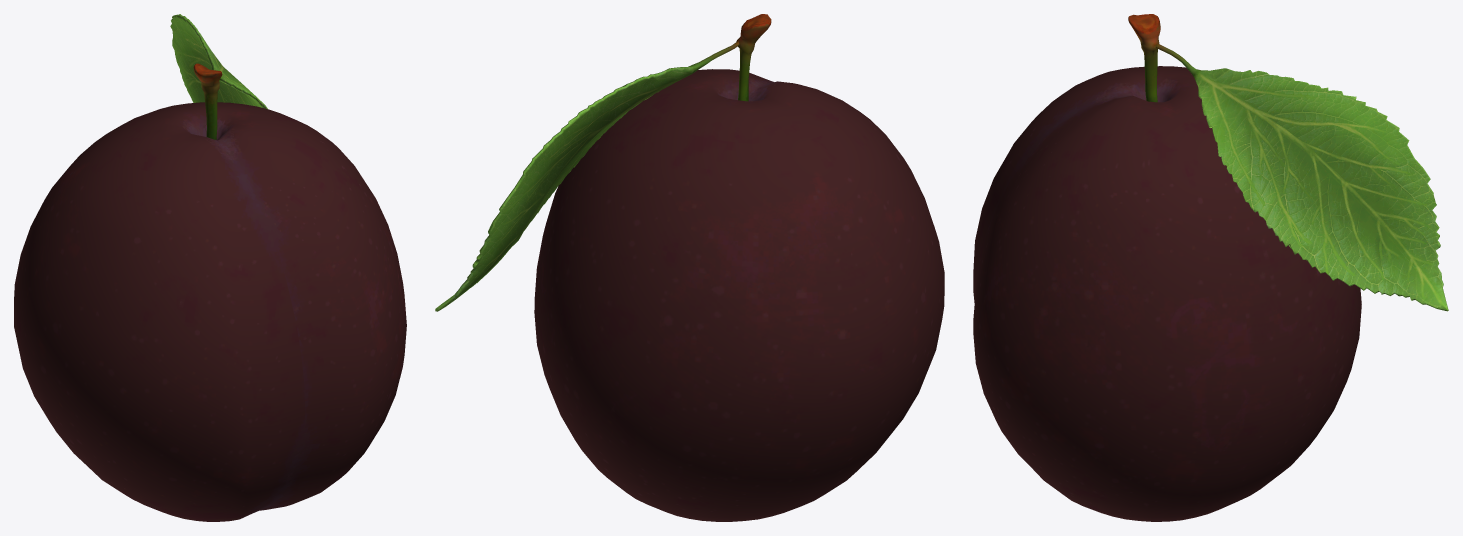
Rendered from Plum.fbx.
3 views of the same model, side by side, from view 1: azimuth 30°, elevation 25°; view 2: azimuth 150°, elevation 25°; view 3: azimuth 270°, elevation 25° (orthographic). The views are drawn at different scales.
Parts seen in each view (by area): view 1: node_id30; view 2: node_id30; view 3: node_id30.
Boxes of the visible parts, bbox=[...] form: node_id30: bbox=[14, 14, 406, 521]; node_id30: bbox=[435, 14, 944, 521]; node_id30: bbox=[973, 14, 1448, 521].
Size of the model in its own units: 0.4052 by 0.512 by 0.4702.
1 material, 1 textured.
